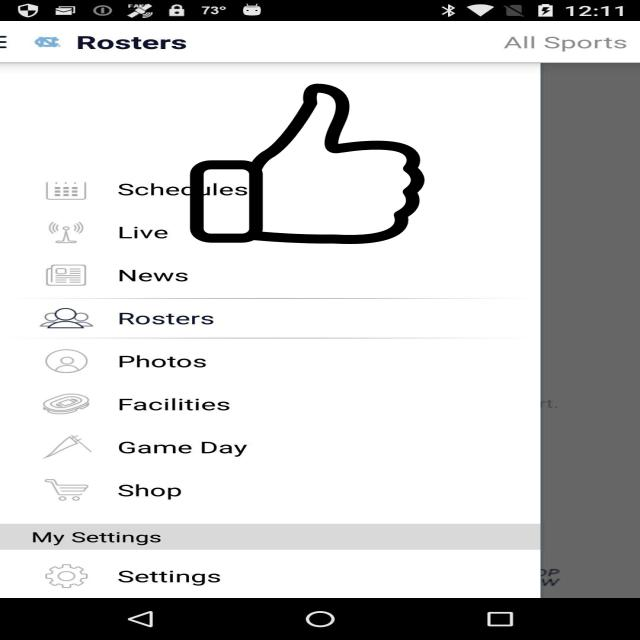privacy zuckering: (187, 84, 428, 244)
